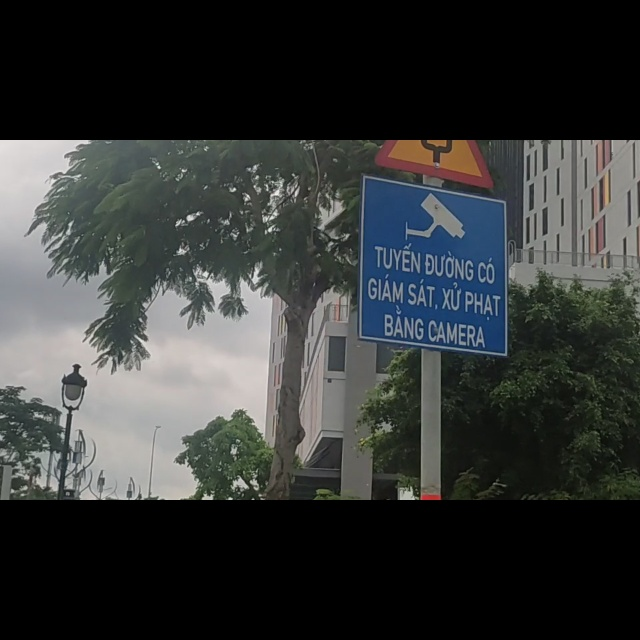bien_nguy_hiem: (361, 70, 507, 382), (372, 1, 497, 84)
